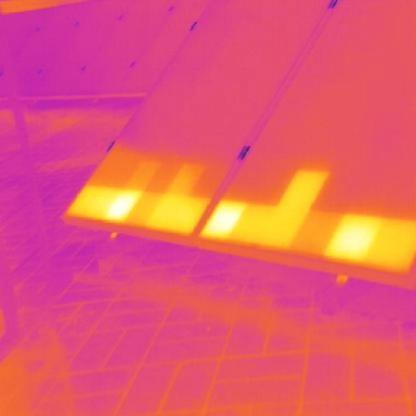anomaly: (202, 169, 331, 245), (324, 212, 416, 269), (64, 184, 144, 224), (142, 186, 205, 235)
